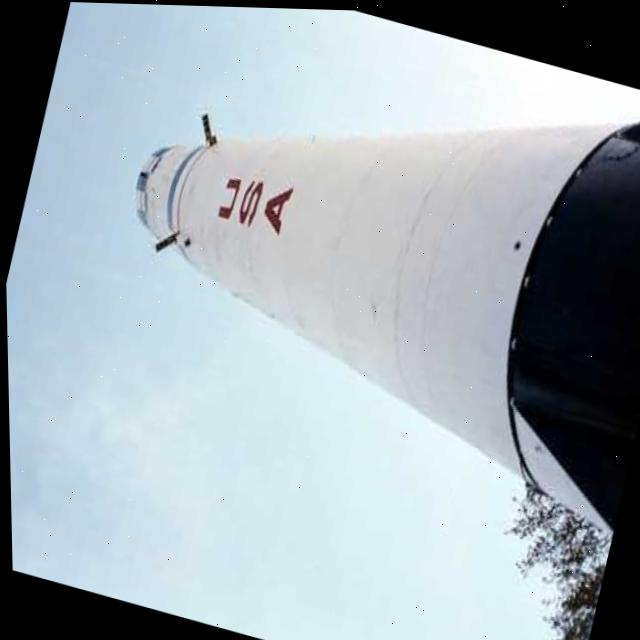missile: (79, 2, 640, 503)
